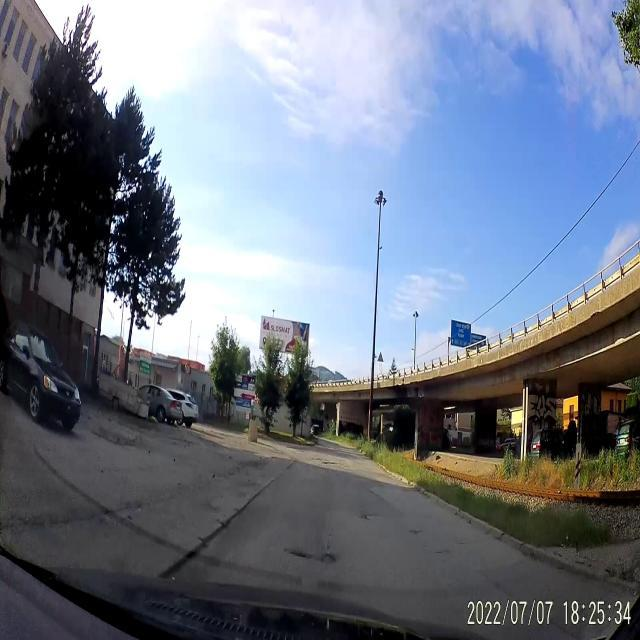Pothole: (276, 532, 342, 574), (314, 454, 355, 474), (405, 525, 426, 545), (360, 508, 382, 524)
